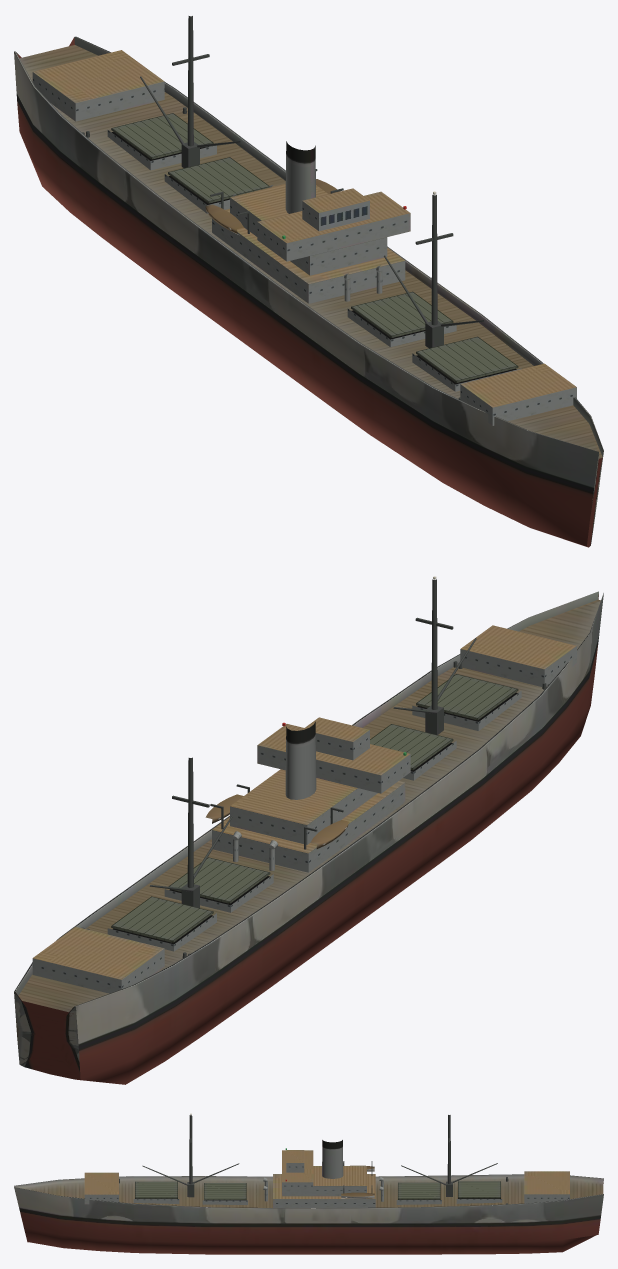
Rendered from cargo.glb.
3 renders of one model, top to bottom at view 1: azimuth 30°, elevation 25°; view 2: azimuth 150°, elevation 25°; view 3: azimuth 270°, elevation 25°, orthographic. The views are drawn at different scales.
Parts seen in each view (by area): view 1: hull, hold_hatch_1, hold_hatch_3, hold_hatch_2, hold_hatch_4; view 2: hull, hold_hatch_4, hold_hatch_1, hold_hatch_3, hold_hatch_2; view 3: hull, hold_hatch_1, hold_hatch_4, hold_hatch_3, hold_hatch_2, boat_left.
Part boxes in pixels (x1,y1,x2,y2): hull: (14,16,603,547); hold_hatch_1: (416,336,518,382); hold_hatch_3: (168,157,269,203); hold_hatch_2: (351,291,453,337); hold_hatch_4: (111,113,213,159); hull: (14,576,603,1084); hold_hatch_4: (111,896,213,942); hold_hatch_1: (416,674,518,720); hold_hatch_3: (168,857,270,903); hold_hatch_2: (370,724,453,770); hull: (14,1113,603,1254); hold_hatch_1: (135,1181,177,1198); hold_hatch_4: (458,1181,500,1198); hold_hatch_3: (398,1182,440,1199); hold_hatch_2: (204,1183,246,1199); boat_left: (341,1192,374,1198).
Size of the model in its own units: 17 by 31.84 by 132.
Materials: 8 (7 with a texture image).
